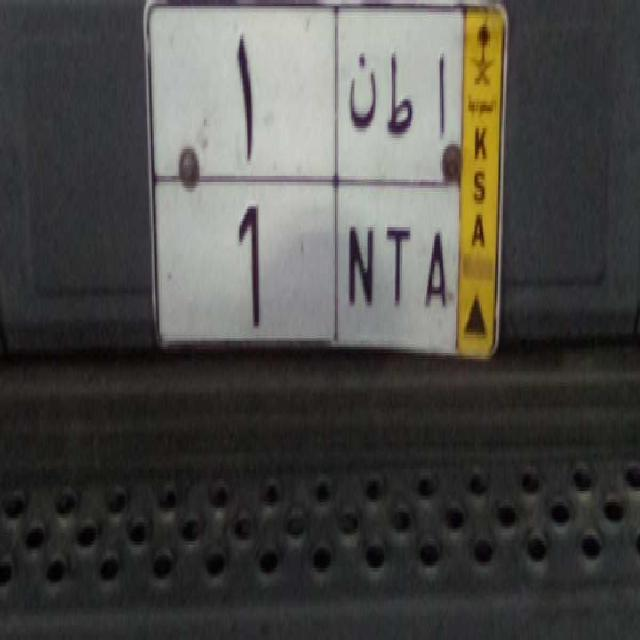license_plate: (149, 182, 463, 364)
